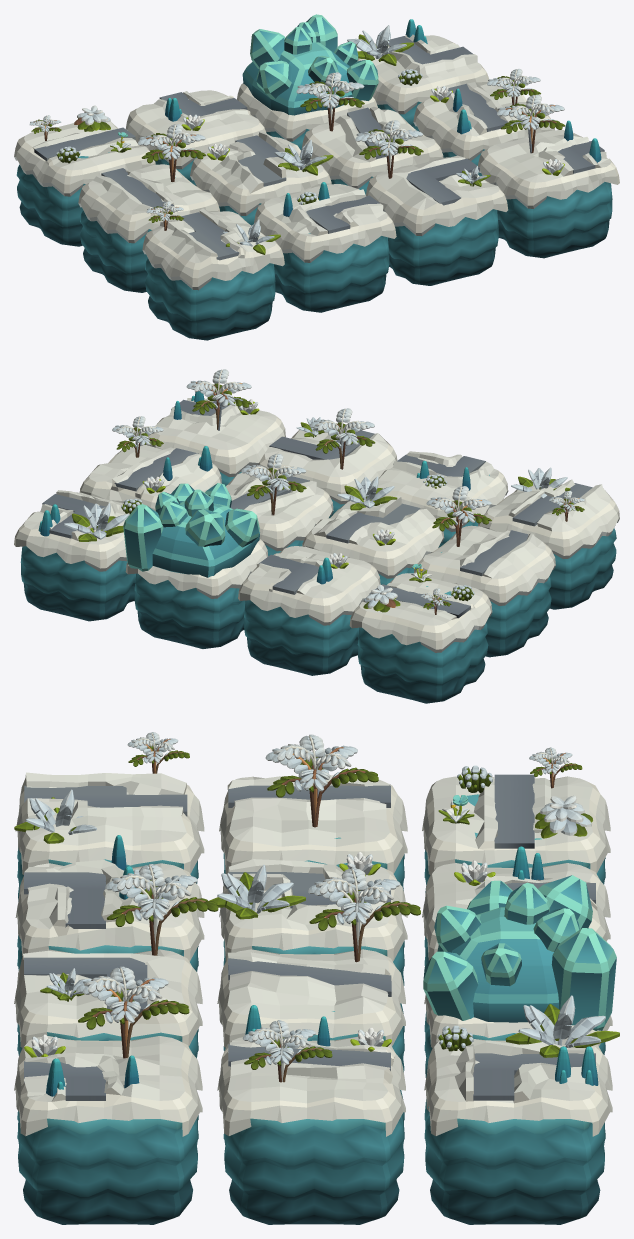
Rendered from Winter_Cubes.fbx.
The picture shows the model from 3 angles, top to bottom: view 1: azimuth 30°, elevation 25°; view 2: azimuth 150°, elevation 25°; view 3: azimuth 270°, elevation 25°; orthographic projection. The views are drawn at different scales.
Visible parts, largest first — view 1: Winter_Cube_12, Winter_Cube_09, Winter_Cube_11, Winter_Cube_10, Winter_Cube_05, Winter_Cube_03, Winter_Cube_01, Winter_Cube_06, Winter_Cube_07, Winter_Cube_04, Winter_Cube_08, Winter_Cube_02; view 2: Winter_Cube_03, Winter_Cube_01, Winter_Cube_02, Winter_Cube_04, Winter_Cube_05, Winter_Cube_09, Winter_Cube_06, Winter_Cube_12, Winter_Cube_11, Winter_Cube_08, Winter_Cube_07, Winter_Cube_10; view 3: Winter_Cube_12, Winter_Cube_04, Winter_Cube_08, Winter_Cube_03, Winter_Cube_07, Winter_Cube_05, Winter_Cube_09, Winter_Cube_01, Winter_Cube_11, Winter_Cube_06, Winter_Cube_10, Winter_Cube_02.
Part boxes in pixels (x1,y1,x2,y2): Winter_Cube_12: (478,94,619,258); Winter_Cube_09: (142,201,284,340); Winter_Cube_11: (355,120,508,285); Winter_Cube_10: (254,182,396,312); Winter_Cube_05: (78,124,219,292); Winter_Cube_03: (237,14,378,149); Winter_Cube_01: (14,105,155,246); Winter_Cube_06: (190,132,333,225); Winter_Cube_07: (296,72,443,194); Winter_Cube_04: (347,19,488,130); Winter_Cube_08: (413,69,554,175); Winter_Cube_02: (125,90,266,184); Winter_Cube_03: (123,483,268,648); Winter_Cube_01: (349,564,492,703); Winter_Cube_02: (238,546,380,675); Winter_Cube_04: (14,490,142,621); Winter_Cube_05: (414,486,555,657); Winter_Cube_09: (478,467,619,609); Winter_Cube_06: (302,476,444,584); Winter_Cube_12: (145,369,285,485); Winter_Cube_11: (258,408,397,517); Winter_Cube_08: (79,416,221,511); Winter_Cube_07: (226,454,333,556); Winter_Cube_10: (377,451,508,547); Winter_Cube_12: (14,966,202,1224); Winter_Cube_04: (424,995,619,1224); Winter_Cube_08: (217,1005,405,1224); Winter_Cube_03: (423,875,616,1077); Winter_Cube_07: (217,867,420,1071); Winter_Cube_05: (219,734,407,890); Winter_Cube_09: (14,732,204,901); Winter_Cube_01: (422,747,610,892); Winter_Cube_11: (14,864,218,1058); Winter_Cube_06: (209,852,407,985); Winter_Cube_10: (15,835,204,971); Winter_Cube_02: (422,846,610,966).
Size of the model in its own units: 393177 by 122623 by 297029.
